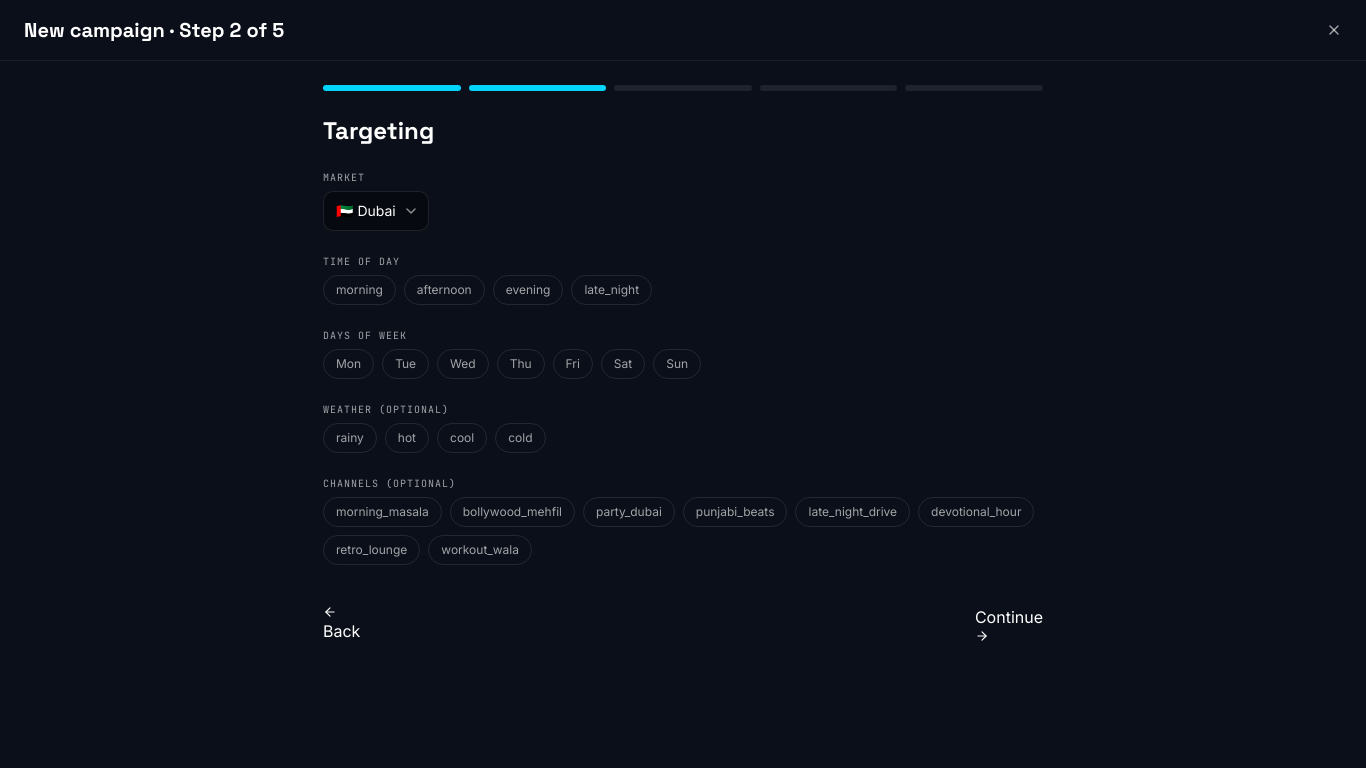
Test: 3) Takeover SKU card is locked below $1000 and unlocks at $1000+
This screenshot has width=1366, height=768.
Earlier steps of the test are not shown.
Click the button with test id "wizard-next" at (1009, 624), box [975, 605, 1043, 643]
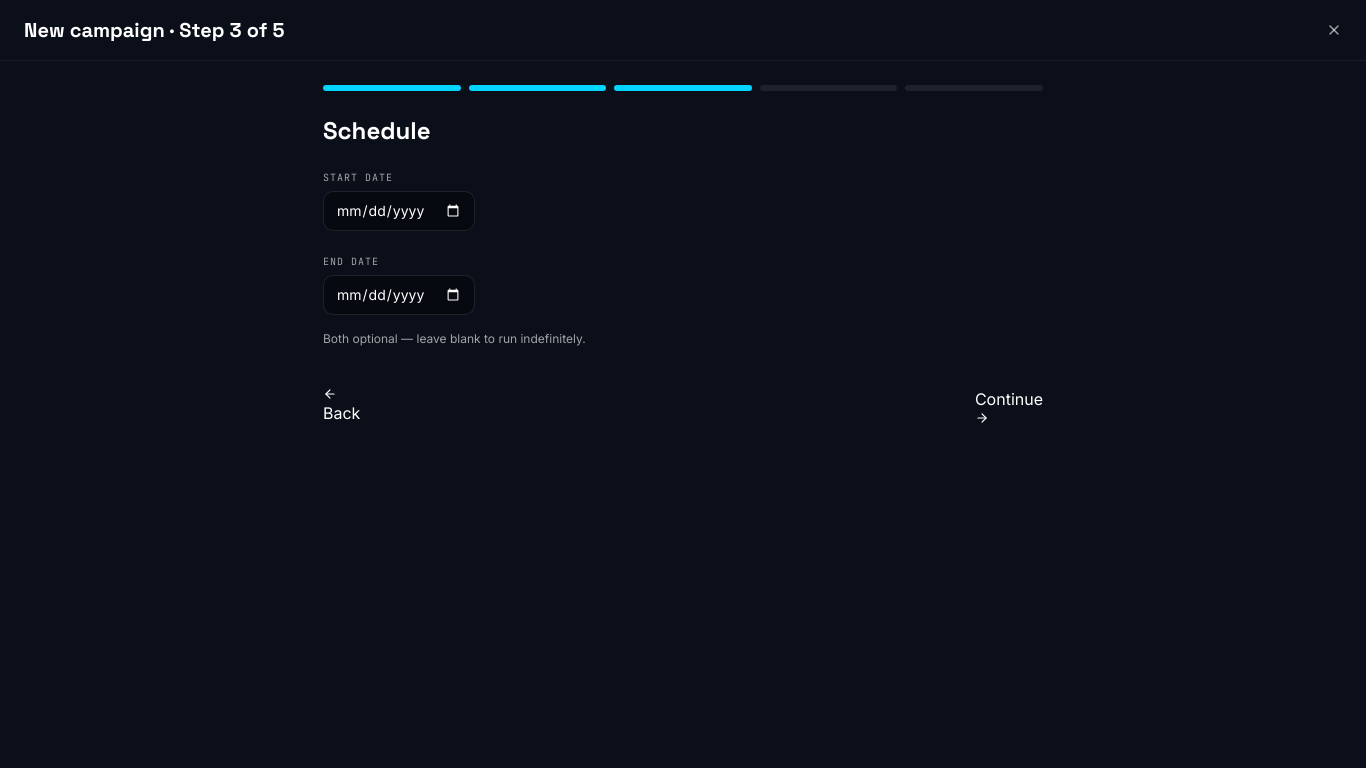
Click the button with test id "wizard-next" at (1009, 406), box [975, 387, 1043, 425]
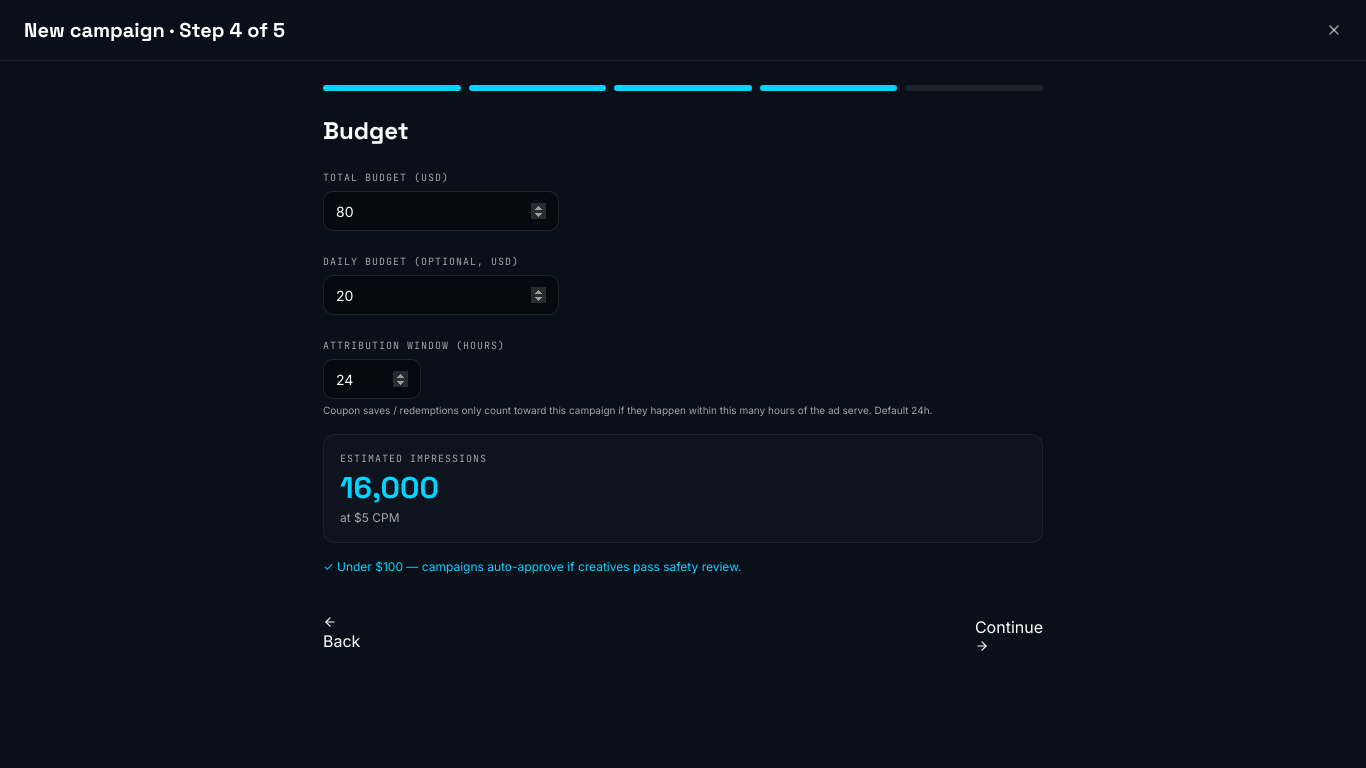
Replace the text in the number field labelled "Total budget (USD)" with "1500" at (441, 211), box [323, 191, 559, 231]
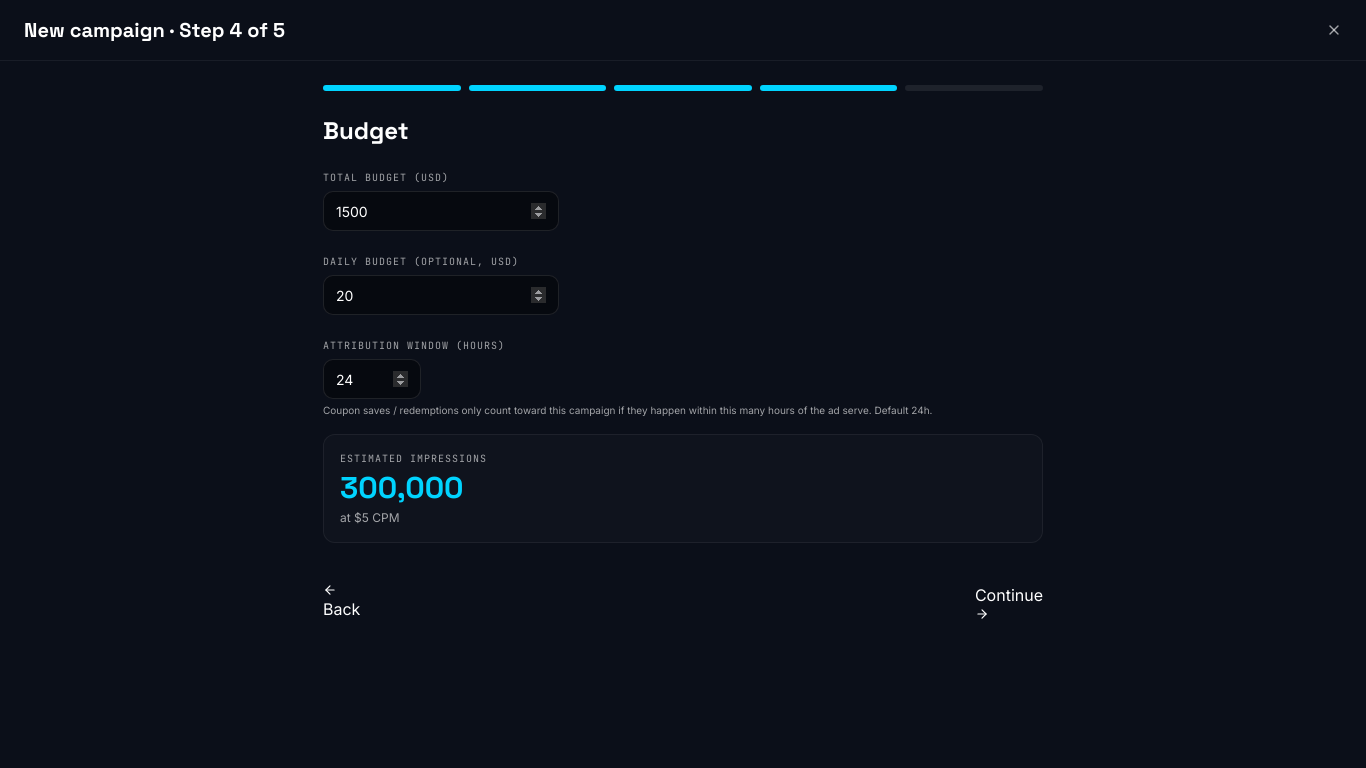
Click the button with test id "wizard-prev" at (342, 602), box [323, 583, 360, 621]
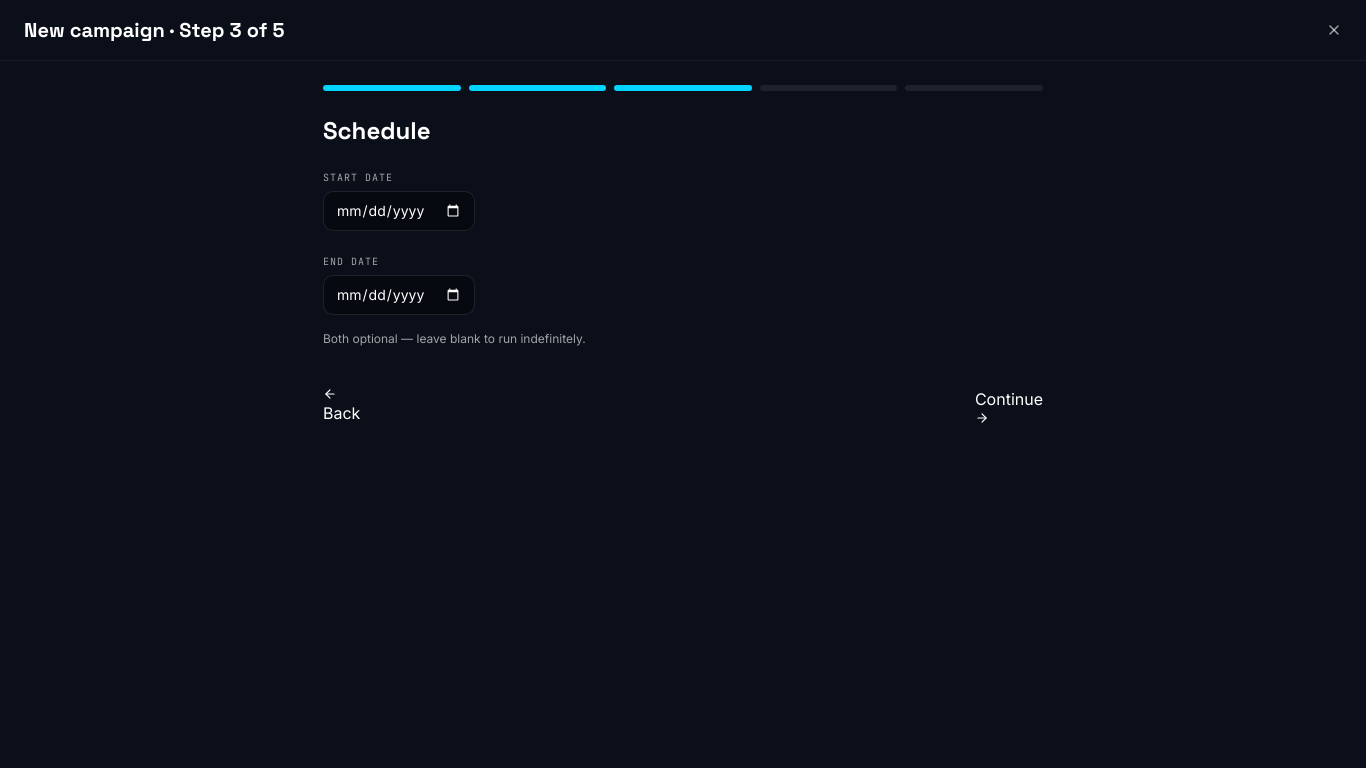
Click the button with test id "wizard-prev" at (342, 406), box [323, 387, 360, 425]
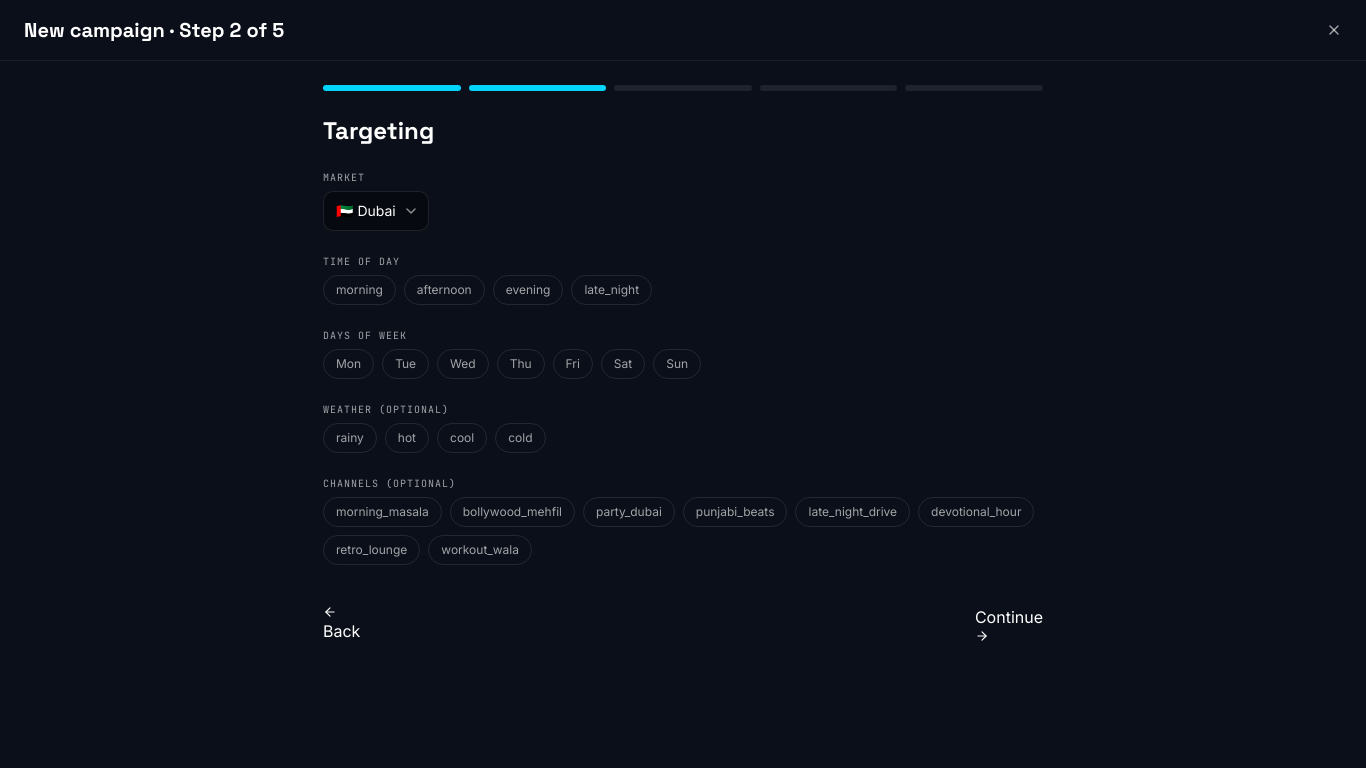
Click the button with test id "wizard-prev" at (342, 624), box [323, 605, 360, 643]
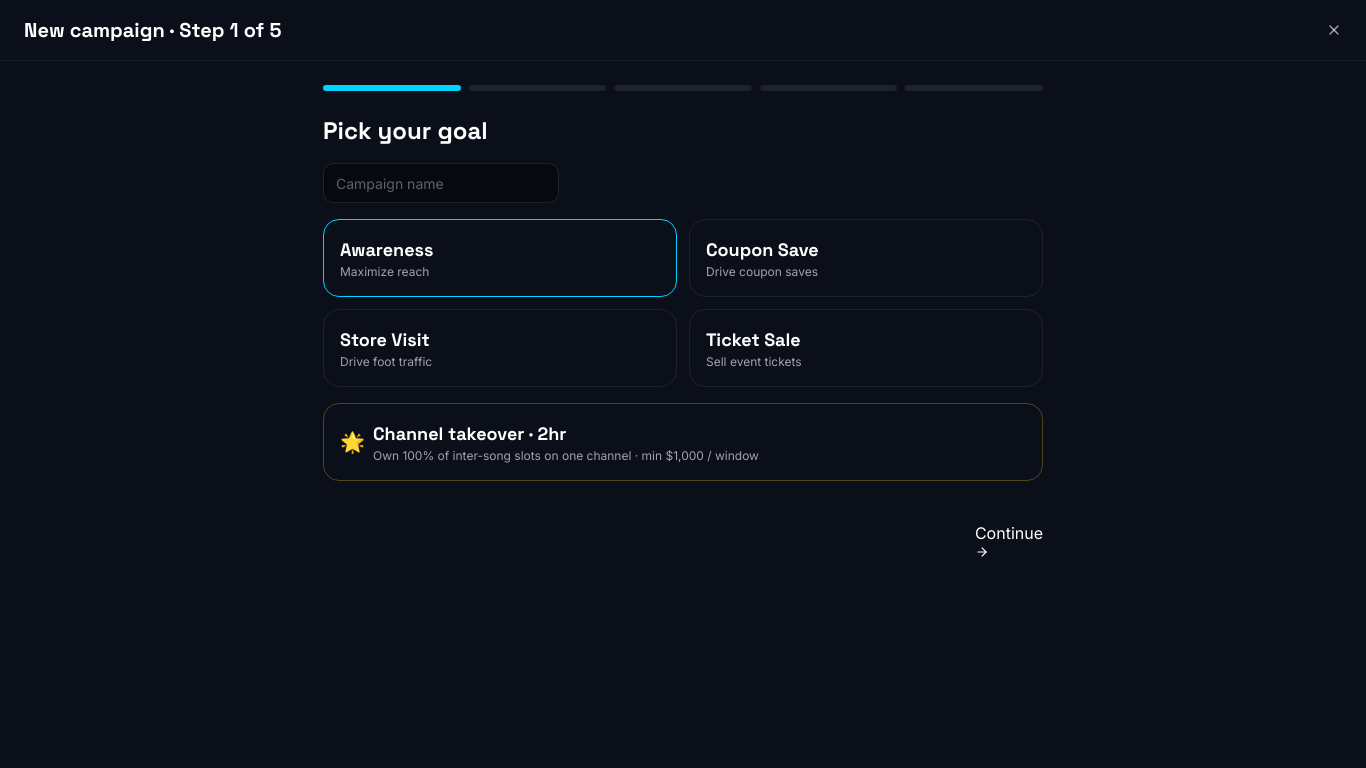
expect the button with test id "wizard-obj-channel_takeover" is shown: met, box [323, 403, 1043, 481]
